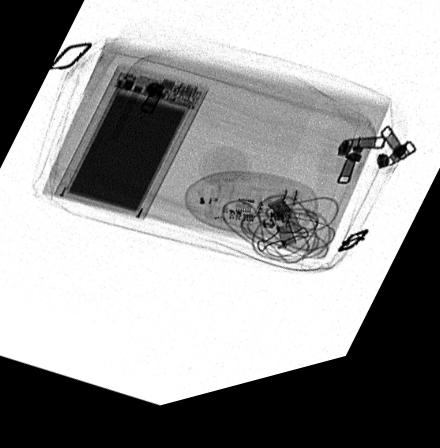Powerbank: (53, 69, 210, 228)
